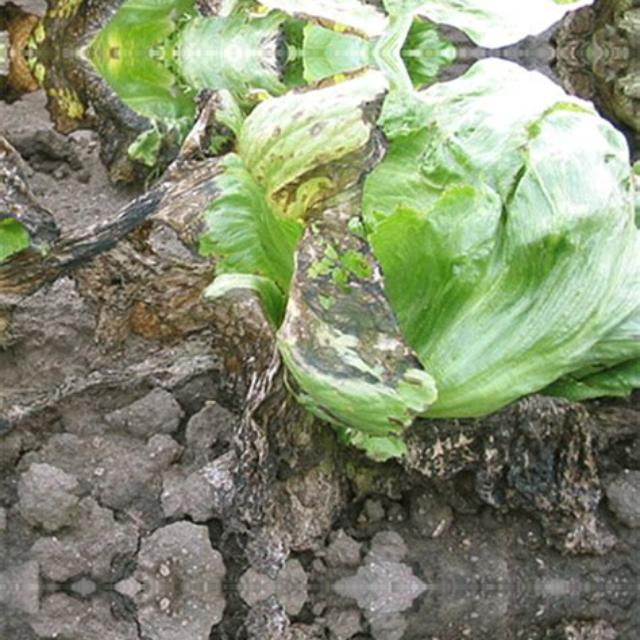Lettuce - Anthracnose: (27, 52, 640, 469), (27, 0, 640, 51)
